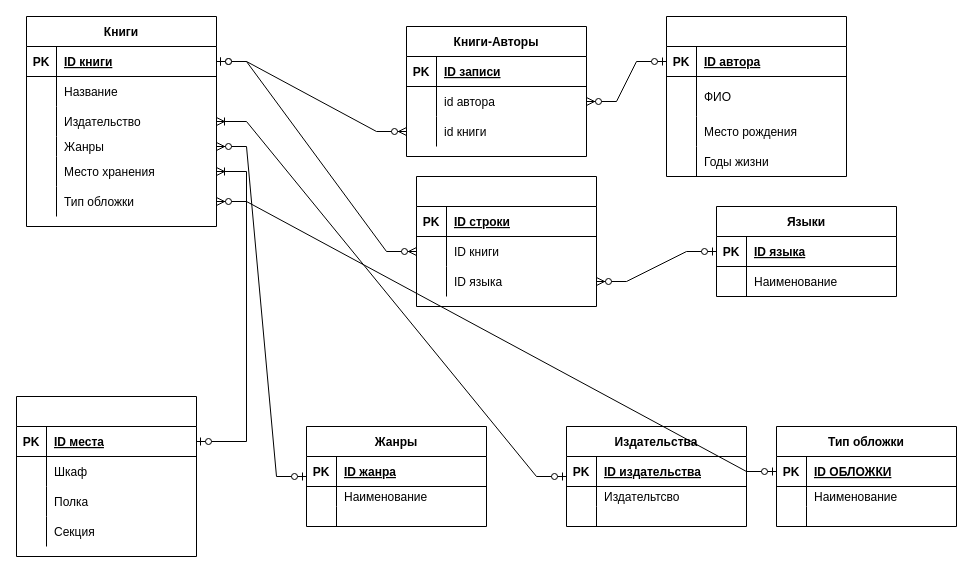
Image size: 973x573. Some labels were removed from this diagram. Here are the shapes that lost their labels. From the top down, the box of each, then its label:
(666, 16, 846, 176): Авторы
(416, 176, 596, 306): Книги-Язфки
(16, 396, 196, 556): Место положения
